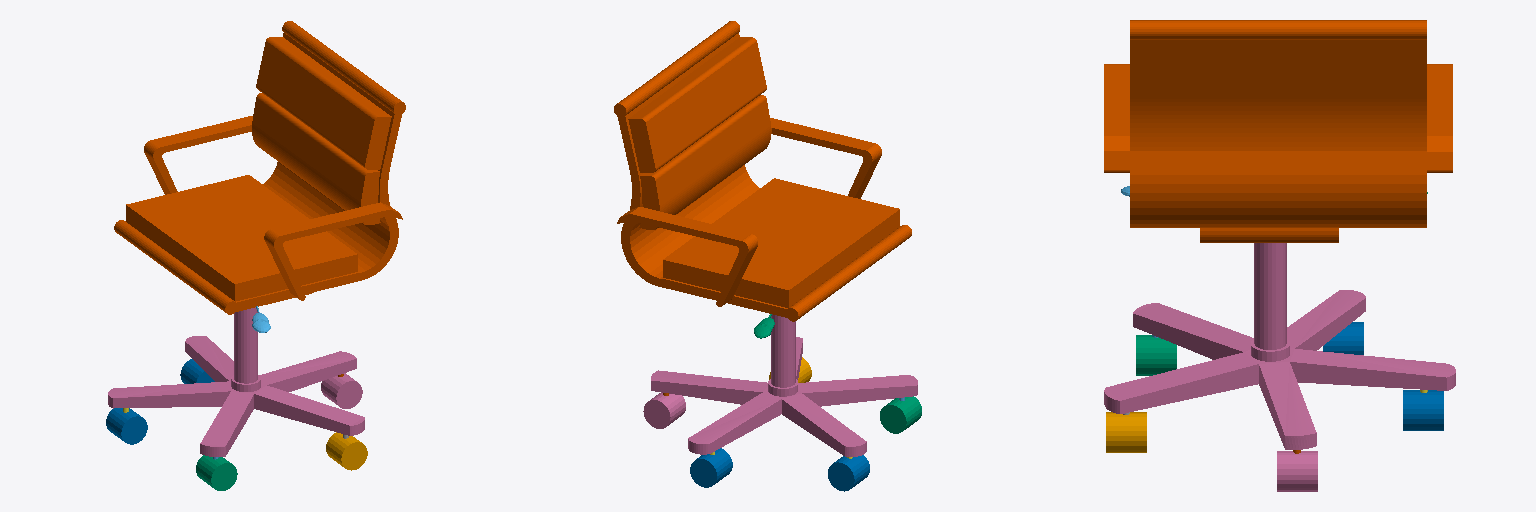
The robot description file, URDF, robot "partnet_fd244782842c611b6443e5551f9d3958":
<?xml version="1.0" encoding="utf-8"?>
<robot name="partnet_fd244782842c611b6443e5551f9d3958">
 <link name="base"/>
 <link name="link_0">
  <visual name="lever-30">
   <origin xyz="-0.23201620674226467 0.10494929997483547 0"/>
   <geometry>
    <mesh filename="textured_objs/original-17.obj"/>
   </geometry>
  </visual>
  <visual name="lever-30">
   <origin xyz="-0.23201620674226467 0.10494929997483547 0"/>
   <geometry>
    <mesh filename="textured_objs/original-18.obj"/>
   </geometry>
  </visual>
  <collision>
   <geometry>
    <mesh filename="cvx_objs/link_0.obj"/>
   </geometry>
  </collision>
 </link>
 <joint name="joint_0" type="revolute">
  <origin xyz="0.21791199547693807 -0.10494929997483547 -0.1323726340427047"/>
  <axis xyz="0 0 -1"/>
  <child link="link_0"/>
  <parent link="link_12"/>
  <limit lower="-0.19198621771937624" upper="0.2792526803190927"/>
 </joint>
 <link name="link_1">
  <visual name="lever-31">
   <origin xyz="0.19220726683642655 0.09702514949603697 0"/>
   <geometry>
    <mesh filename="textured_objs/original-20.obj"/>
   </geometry>
  </visual>
  <visual name="lever-31">
   <origin xyz="0.19220726683642655 0.09702514949603697 0"/>
   <geometry>
    <mesh filename="textured_objs/original-21.obj"/>
   </geometry>
  </visual>
  <collision>
   <geometry>
    <mesh filename="cvx_objs/link_1.obj"/>
   </geometry>
  </collision>
 </link>
 <joint name="joint_1" type="revolute">
  <origin xyz="-0.20631147810175315 -0.09702514949603697 -0.1323726340427047"/>
  <axis xyz="0 0 1"/>
  <child link="link_1"/>
  <parent link="link_12"/>
  <limit lower="-0.2617993877991494" upper="0.17453292519943295"/>
 </joint>
 <link name="link_2">
  <visual name="caster_stem-28">
   <origin xyz="0.44596691387900356 0 -0.0816165"/>
   <geometry>
    <mesh filename="textured_objs/original-14.obj"/>
   </geometry>
  </visual>
  <collision>
   <geometry>
    <mesh filename="cvx_objs/link_2.obj"/>
   </geometry>
  </collision>
 </link>
 <joint name="joint_2" type="continuous">
  <origin xyz="-0.44596691387900356 0 0.0816165"/>
  <axis xyz="0 1 0"/>
  <child link="link_2"/>
  <parent link="link_13"/>
 </joint>
 <link name="link_3">
  <visual name="wheel-29">
   <origin xyz="0 0.7571262728211829 -0.0768900157799619"/>
   <geometry>
    <mesh filename="textured_objs/original-15.obj"/>
   </geometry>
  </visual>
  <collision>
   <geometry>
    <mesh filename="cvx_objs/link_3.obj"/>
   </geometry>
  </collision>
 </link>
 <joint name="joint_3" type="continuous">
  <origin xyz="0.44596691387900356 -0.7571262728211829 -0.004726484220038088"/>
  <axis xyz="-1 0 0"/>
  <child link="link_3"/>
  <parent link="link_2"/>
 </joint>
 <link name="link_4">
  <visual name="caster_stem-26">
   <origin xyz="0.0652675 0 0.3489935"/>
   <geometry>
    <mesh filename="textured_objs/original-26.obj"/>
   </geometry>
  </visual>
  <collision>
   <geometry>
    <mesh filename="cvx_objs/link_4.obj"/>
   </geometry>
  </collision>
 </link>
 <joint name="joint_4" type="continuous">
  <origin xyz="-0.0652675 0 -0.3489935"/>
  <axis xyz="0 1 0"/>
  <child link="link_4"/>
  <parent link="link_13"/>
 </joint>
 <link name="link_5">
  <visual name="wheel-27">
   <origin xyz="0 0.7571262728211829 0.35372001577996187"/>
   <geometry>
    <mesh filename="textured_objs/original-27.obj"/>
   </geometry>
  </visual>
  <collision>
   <geometry>
    <mesh filename="cvx_objs/link_5.obj"/>
   </geometry>
  </collision>
 </link>
 <joint name="joint_5" type="continuous">
  <origin xyz="0.0652675 -0.7571262728211829 -0.0047265157799618596"/>
  <axis xyz="1 0 0"/>
  <child link="link_5"/>
  <parent link="link_4"/>
 </joint>
 <link name="link_6">
  <visual name="caster_stem-24">
   <origin xyz="-0.4470952812818848 0 0.0764365"/>
   <geometry>
    <mesh filename="textured_objs/original-29.obj"/>
   </geometry>
  </visual>
  <collision>
   <geometry>
    <mesh filename="cvx_objs/link_6.obj"/>
   </geometry>
  </collision>
 </link>
 <joint name="joint_6" type="continuous">
  <origin xyz="0.4470952812818848 0 -0.0764365"/>
  <axis xyz="0 1 0"/>
  <child link="link_6"/>
  <parent link="link_13"/>
 </joint>
 <link name="link_7">
  <visual name="wheel-25">
   <origin xyz="0 0.7571263117914265 0.08116331179142651"/>
   <geometry>
    <mesh filename="textured_objs/original-30.obj"/>
   </geometry>
  </visual>
  <collision>
   <geometry>
    <mesh filename="cvx_objs/link_7.obj"/>
   </geometry>
  </collision>
 </link>
 <joint name="joint_7" type="continuous">
  <origin xyz="-0.4470952812818848 -0.7571263117914265 -0.004726811791426505"/>
  <axis xyz="1 0 0"/>
  <child link="link_7"/>
  <parent link="link_6"/>
 </joint>
 <link name="link_8">
  <visual name="caster_stem-22">
   <origin xyz="-0.35800308612099646 0 -0.47443149999999995"/>
   <geometry>
    <mesh filename="textured_objs/original-32.obj"/>
   </geometry>
  </visual>
  <collision>
   <geometry>
    <mesh filename="cvx_objs/link_8.obj"/>
   </geometry>
  </collision>
 </link>
 <joint name="joint_8" type="continuous">
  <origin xyz="0.35800308612099646 0 0.47443149999999995"/>
  <axis xyz="0 1 0"/>
  <child link="link_8"/>
  <parent link="link_13"/>
 </joint>
 <link name="link_9">
  <visual name="wheel-23">
   <origin xyz="0 0.7571262707437332 -0.469705"/>
   <geometry>
    <mesh filename="textured_objs/original-33.obj"/>
   </geometry>
  </visual>
  <collision>
   <geometry>
    <mesh filename="cvx_objs/link_9.obj"/>
   </geometry>
  </collision>
 </link>
 <joint name="joint_9" type="continuous">
  <origin xyz="-0.35800308612099646 -0.7571262707437332 -0.004726499999999967"/>
  <axis xyz="1 0 0"/>
  <child link="link_9"/>
  <parent link="link_8"/>
 </joint>
 <link name="link_10">
  <visual name="caster_stem-20">
   <origin xyz="0.2059095 0 -0.5647212812818848"/>
   <geometry>
    <mesh filename="textured_objs/original-23.obj"/>
   </geometry>
  </visual>
  <collision>
   <geometry>
    <mesh filename="cvx_objs/link_10.obj"/>
   </geometry>
  </collision>
 </link>
 <joint name="joint_10" type="continuous">
  <origin xyz="-0.2059095 0 0.5647212812818848"/>
  <axis xyz="0 1 0"/>
  <child link="link_10"/>
  <parent link="link_13"/>
 </joint>
 <link name="link_11">
  <visual name="wheel-21">
   <origin xyz="0 0.757126389225537 -0.559994610774463"/>
   <geometry>
    <mesh filename="textured_objs/original-24.obj"/>
   </geometry>
  </visual>
  <collision>
   <geometry>
    <mesh filename="cvx_objs/link_11.obj"/>
   </geometry>
  </collision>
 </link>
 <joint name="joint_11" type="continuous">
  <origin xyz="0.2059095 -0.757126389225537 -0.004726670507421815"/>
  <axis xyz="1 0 0"/>
  <child link="link_11"/>
  <parent link="link_10"/>
 </joint>
 <link name="link_12">
  <visual name="arm_holistic_frame-37">
   <origin xyz="-0.014104211265326603 0 -0.1323726340427047"/>
   <geometry>
    <mesh filename="textured_objs/original-5.obj"/>
   </geometry>
  </visual>
  <visual name="arm_holistic_frame-36">
   <origin xyz="-0.014104211265326603 0 -0.1323726340427047"/>
   <geometry>
    <mesh filename="textured_objs/original-6.obj"/>
   </geometry>
  </visual>
  <visual name="back_soft_surface-40">
   <origin xyz="-0.014104211265326603 0 -0.1323726340427047"/>
   <geometry>
    <mesh filename="textured_objs/original-4.obj"/>
   </geometry>
  </visual>
  <visual name="back_soft_surface-41">
   <origin xyz="-0.014104211265326603 0 -0.1323726340427047"/>
   <geometry>
    <mesh filename="textured_objs/original-3.obj"/>
   </geometry>
  </visual>
  <visual name="back_support-39">
   <origin xyz="-0.014104211265326603 0 -0.1323726340427047"/>
   <geometry>
    <mesh filename="textured_objs/new-7.obj"/>
   </geometry>
  </visual>
  <visual name="seat_soft_surface-35">
   <origin xyz="-0.014104211265326603 0 -0.1323726340427047"/>
   <geometry>
    <mesh filename="textured_objs/original-11.obj"/>
   </geometry>
  </visual>
  <visual name="seat_support-34">
   <origin xyz="-0.014104211265326603 0 -0.1323726340427047"/>
   <geometry>
    <mesh filename="textured_objs/new-6.obj"/>
   </geometry>
  </visual>
  <visual name="mounting_plate-32">
   <origin xyz="-0.014104211265326603 0 -0.1323726340427047"/>
   <geometry>
    <mesh filename="textured_objs/original-34.obj"/>
   </geometry>
  </visual>
  <collision>
   <geometry>
    <mesh filename="cvx_objs/link_12.obj"/>
   </geometry>
  </collision>
 </link>
 <joint name="joint_12" type="continuous">
  <origin xyz="0.0 0 0.0"/>
  <axis xyz="0 1 0"/>
  <child link="link_12"/>
  <parent link="link_12_helper"/>
 </joint>
 <link name="link_13">
  <visual name="central_support-7">
   <origin xyz="0 0 0"/>
   <geometry>
    <mesh filename="textured_objs/new-5.obj"/>
   </geometry>
  </visual>
  <visual name="leg-10">
   <origin xyz="0 0 0"/>
   <geometry>
    <mesh filename="textured_objs/new-0.obj"/>
   </geometry>
  </visual>
  <visual name="leg-11">
   <origin xyz="0 0 0"/>
   <geometry>
    <mesh filename="textured_objs/new-4.obj"/>
   </geometry>
  </visual>
  <visual name="leg-12">
   <origin xyz="0 0 0"/>
   <geometry>
    <mesh filename="textured_objs/new-3.obj"/>
   </geometry>
  </visual>
  <visual name="leg-13">
   <origin xyz="0 0 0"/>
   <geometry>
    <mesh filename="textured_objs/new-2.obj"/>
   </geometry>
  </visual>
  <visual name="leg-14">
   <origin xyz="0 0 0"/>
   <geometry>
    <mesh filename="textured_objs/new-1.obj"/>
   </geometry>
  </visual>
  <collision>
   <geometry>
    <mesh filename="cvx_objs/link_13.obj"/>
   </geometry>
  </collision>
 </link>
 <joint name="joint_13" type="fixed">
  <origin rpy="1.570796326794897 0 -1.570796326794897" xyz="0 0 0"/>
  <child link="link_13"/>
  <parent link="base"/>
 </joint>
 <link name="link_12_helper"/>
 <joint name="joint_14" type="prismatic">
  <origin xyz="0.014104211265326603 0 0.1323726340427047"/>
  <axis xyz="0 -1 0"/>
  <child link="link_12_helper"/>
  <parent link="link_13"/>
  <limit lower="0" upper="0.1"/>
 </joint>
</robot>

--- Render facts (derived) ---
3 views of the same robot in one strip: view 1: azimuth 30°, elevation 25°; view 2: azimuth 150°, elevation 25°; view 3: azimuth 270°, elevation 25° (orthographic).
Robot: partnet_fd244782842c611b6443e5551f9d3958 — 16 links, 15 joints (2 revolute, 11 continuous, 1 prismatic, 1 fixed); root link base; default pose: every joint at zero.
Visible links, largest first — view 1: link_12, link_13, link_11, link_7, link_9, link_5; view 2: link_12, link_13, link_3, link_9, link_5, link_11; view 3: link_12, link_13, link_5, link_3, link_7, link_9, link_11.
Boxes of the visible links, x1,y1,x2,y2 form: link_12: (114,21,405,314); link_13: (108,307,364,456); link_11: (106,408,147,444); link_7: (326,432,367,470); link_9: (196,455,237,490); link_5: (321,373,362,408); link_12: (614,21,911,321); link_13: (651,314,917,456); link_3: (690,448,732,487); link_9: (880,396,921,433); link_5: (643,392,685,428); link_11: (828,455,869,491); link_12: (1104,20,1452,242); link_13: (1104,243,1455,449); link_5: (1277,451,1317,491); link_3: (1403,390,1443,430); link_7: (1106,412,1146,452); link_9: (1136,335,1176,375); link_11: (1323,322,1363,354).
Bounding box of the posed robot: 1.05 × 1.06 × 1.54 m (x, y, z).
Meshes: 28 distinct files referenced, 28 mesh visuals loaded (28 OBJ).
